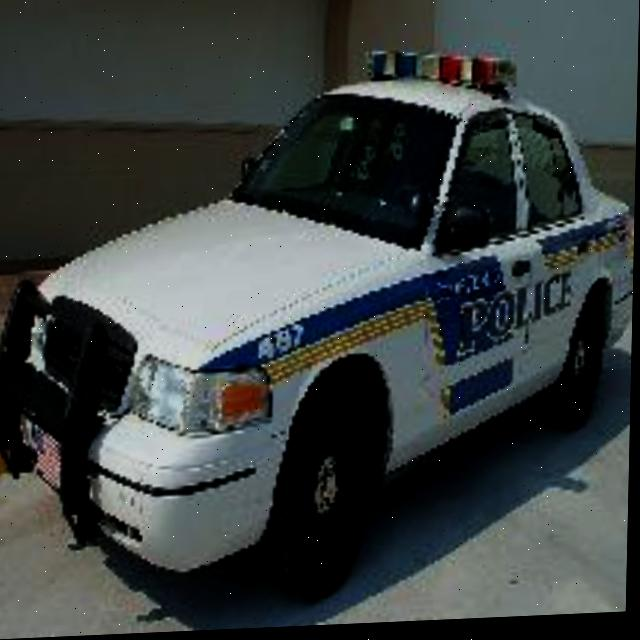emergency: (0, 40, 639, 548)
